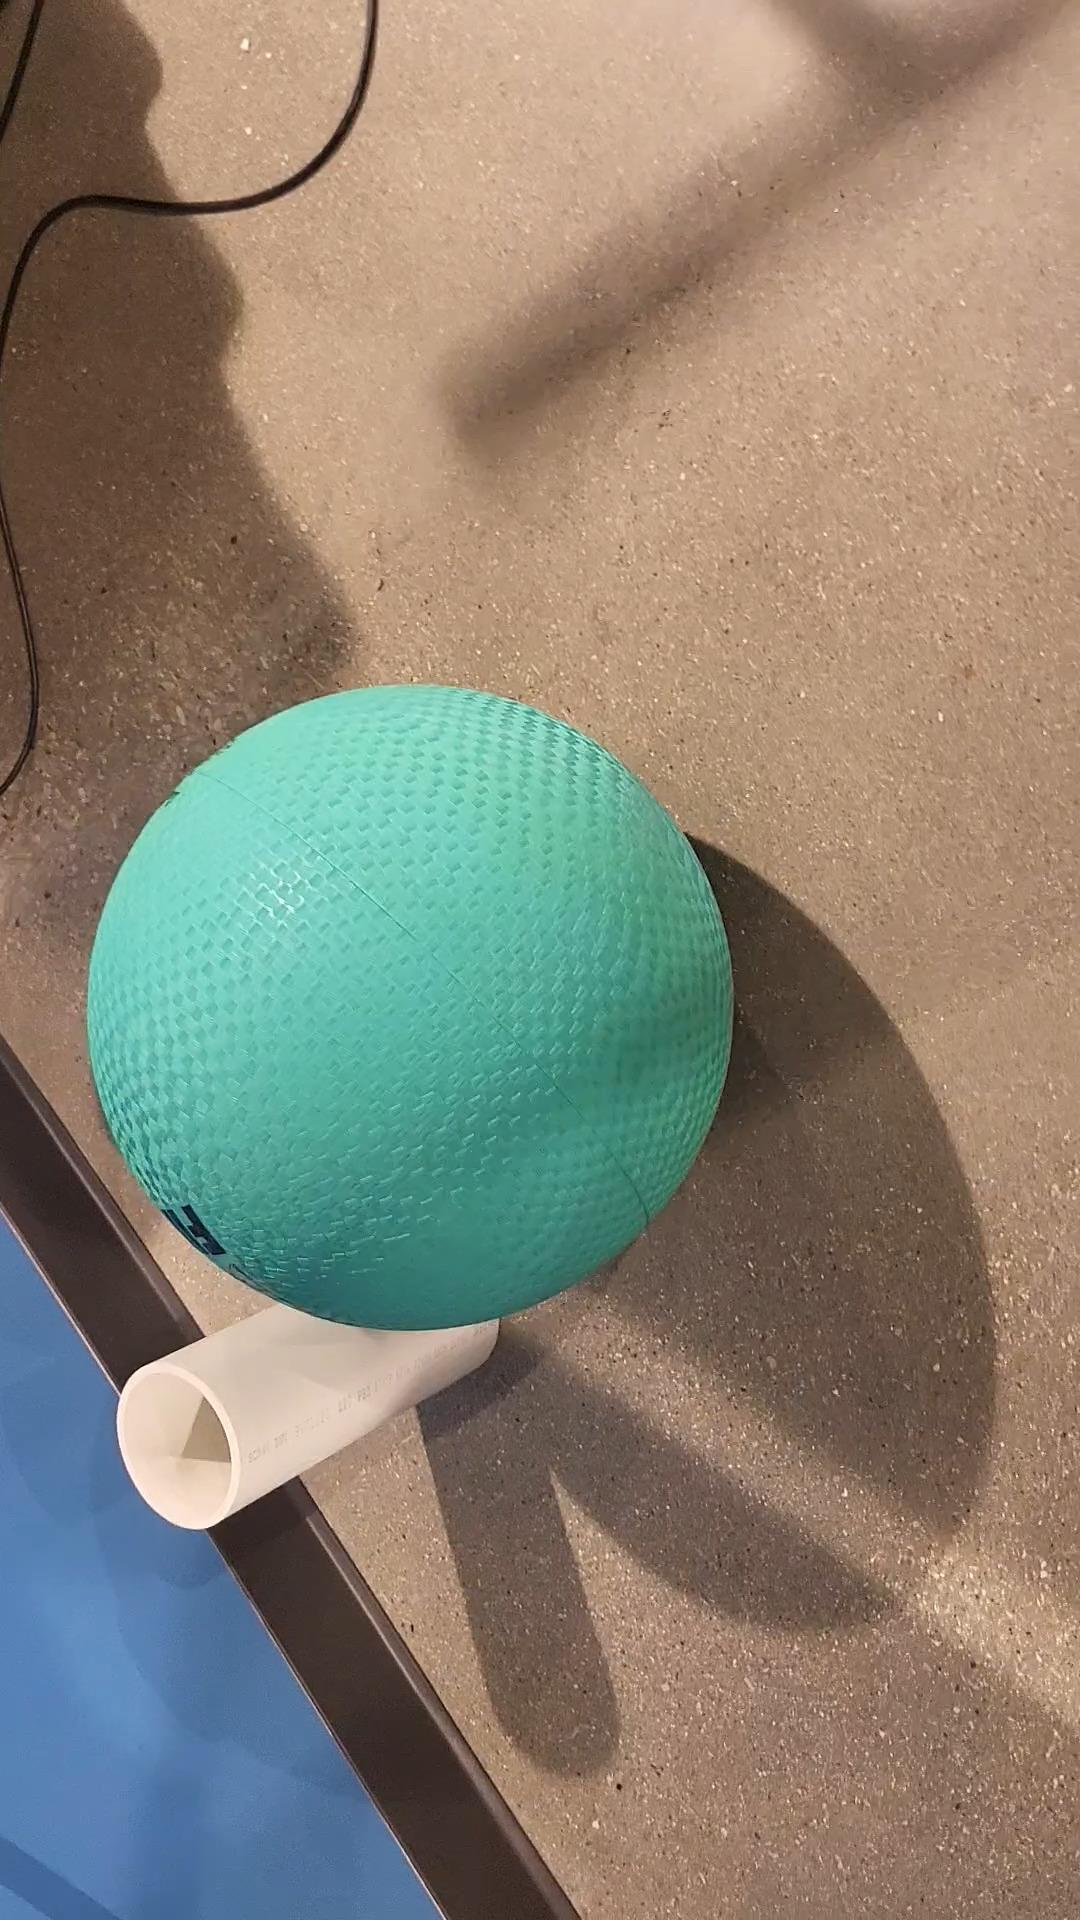algae: (83, 707, 744, 1333)
coral: (120, 1261, 504, 1534)
